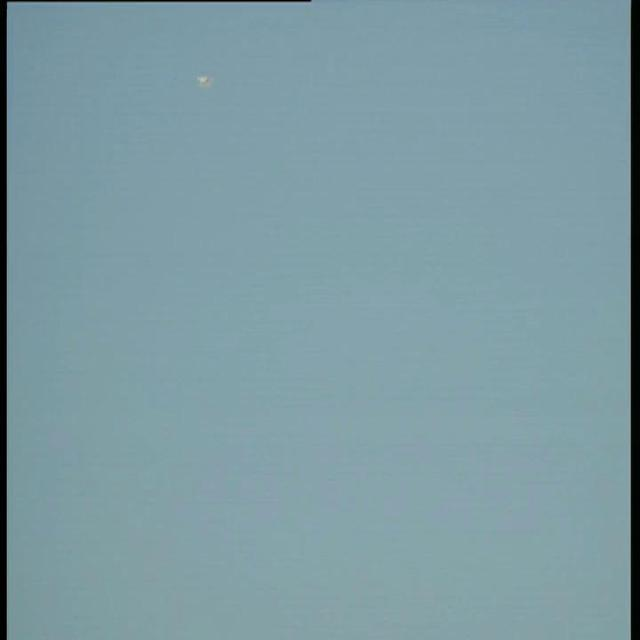drone: (192, 66, 216, 94)
